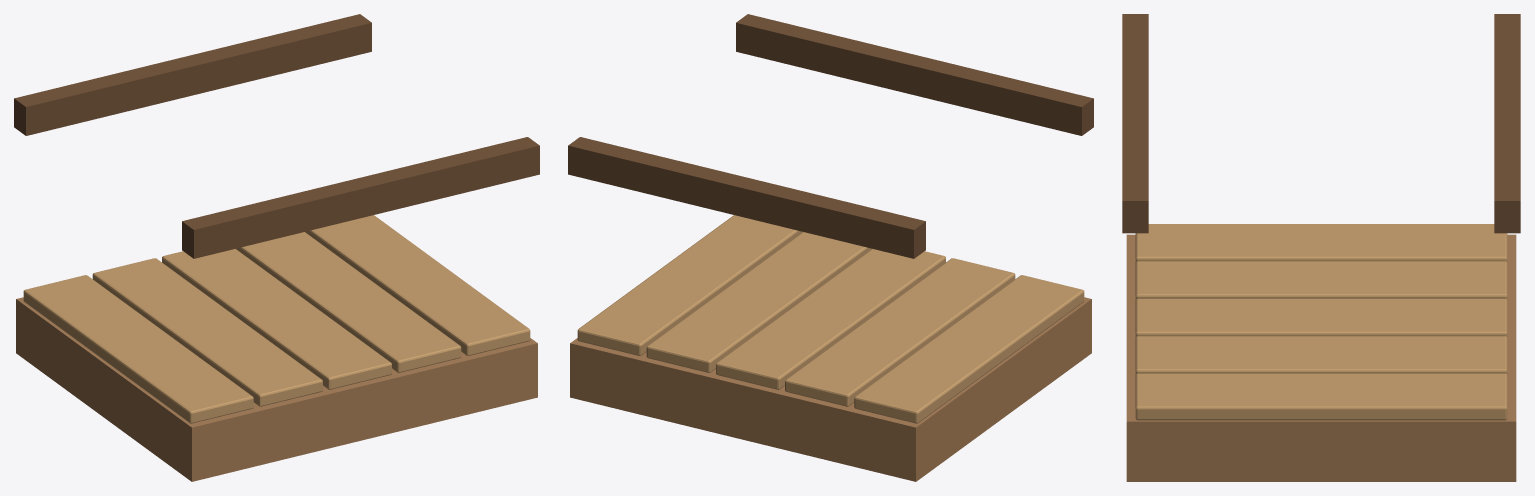
The model's file is bridge-middle.glb.
3 renders of one model, left to right at view 1: azimuth 30°, elevation 25°; view 2: azimuth 150°, elevation 25°; view 3: azimuth 270°, elevation 25°, orthographic. The views are drawn at different scales.
Parts seen in each view (by area): view 1: Bridge highlights, Bridge oak, Dark beams; view 2: Bridge highlights, Bridge oak, Dark beams; view 3: Bridge highlights, Bridge oak, Dark beams.
Boxes of the visible parts, bbox=[...] form: Bridge highlights: bbox=[23, 215, 530, 423]; Bridge oak: bbox=[16, 297, 537, 481]; Dark beams: bbox=[14, 14, 539, 258]; Bridge highlights: bbox=[577, 215, 1084, 423]; Bridge oak: bbox=[570, 297, 1091, 481]; Dark beams: bbox=[568, 14, 1093, 258]; Bridge highlights: bbox=[1135, 224, 1507, 420]; Bridge oak: bbox=[1126, 234, 1516, 481]; Dark beams: bbox=[1122, 14, 1520, 233].
Bounding box in the file's own units: 1 × 0.7 × 0.9.
